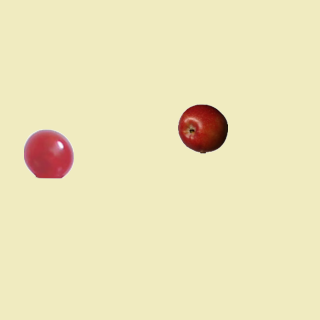Apple Braeburn: (177, 103, 227, 153)
Redcurrant: (23, 128, 73, 178)
